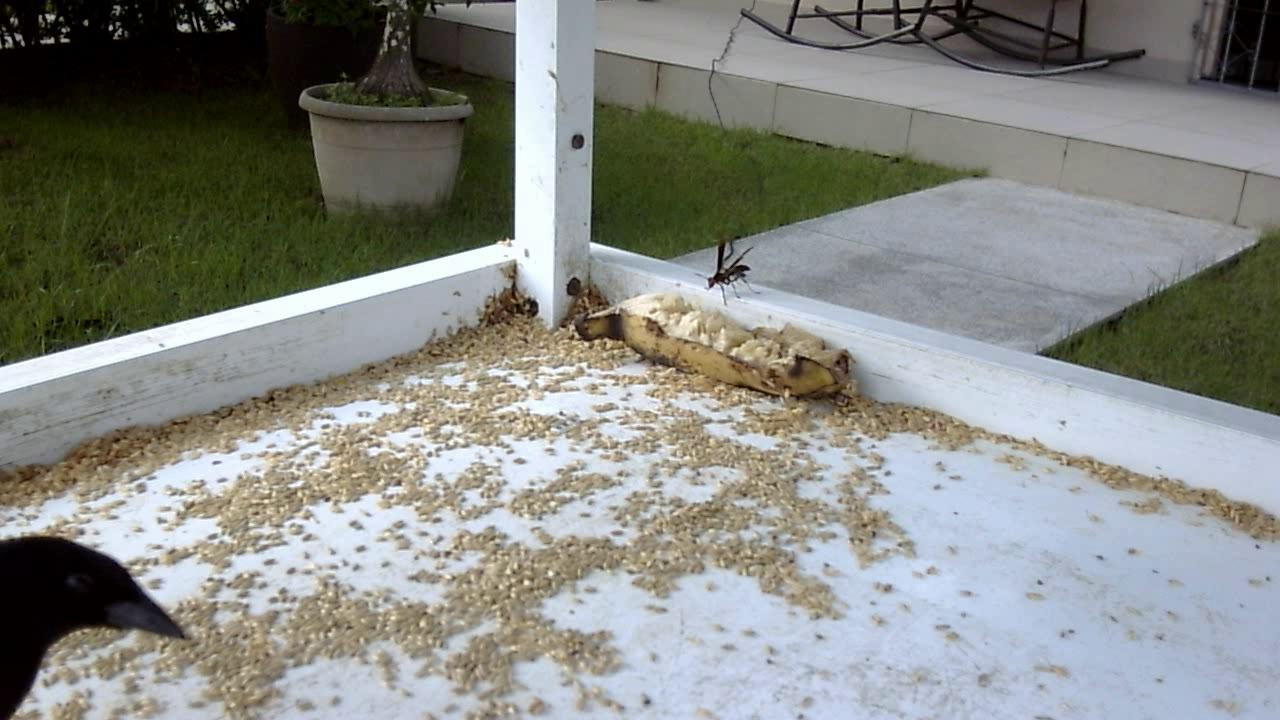chupim: (1, 526, 192, 720)
